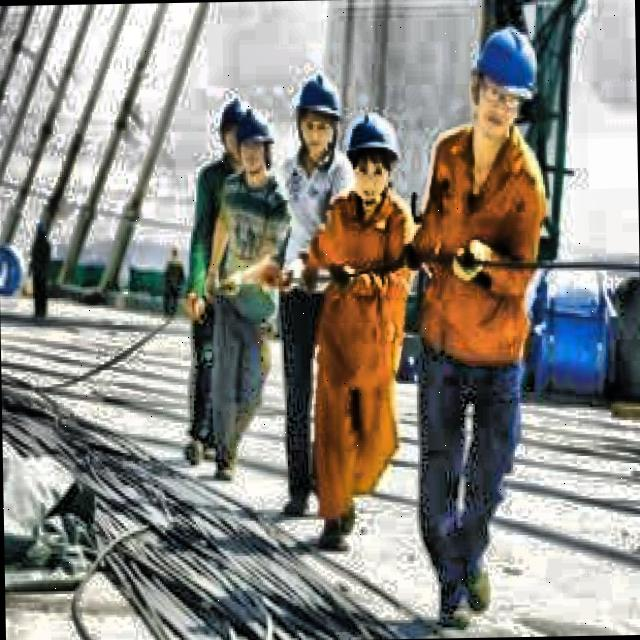helmet: (468, 15, 542, 150), (340, 104, 400, 206), (291, 66, 342, 165), (236, 111, 274, 179), (215, 96, 247, 160)
